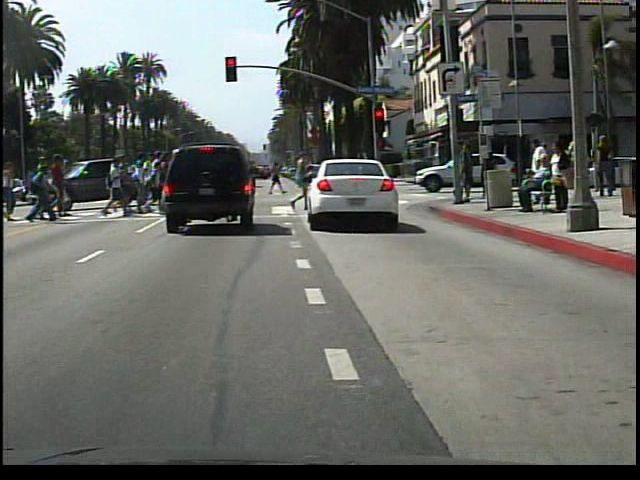person: (519, 154, 561, 215), (546, 138, 576, 214), (286, 148, 317, 214)
